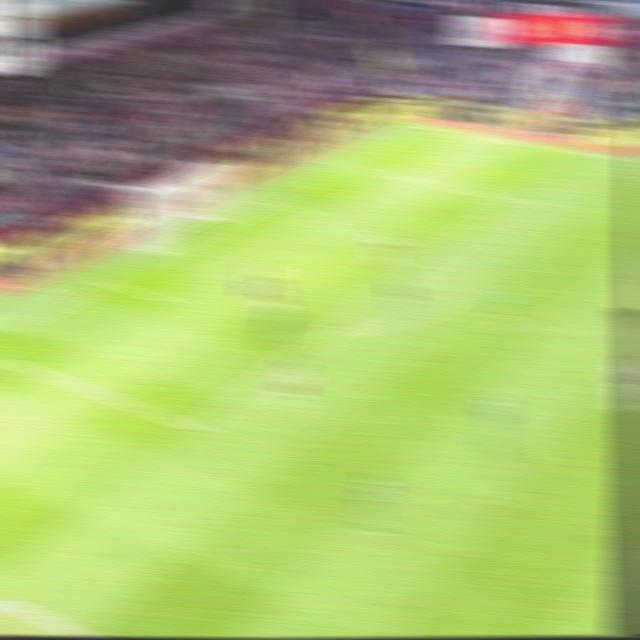bigarea_bottom_inner: (182, 420, 211, 439)
bigarea_top_inner: (501, 192, 526, 209)
bigarea_top_outter: (325, 158, 350, 169)
bottom_arc_area_intersection: (313, 322, 344, 343)
corner: (402, 122, 428, 130)
smallarea_bottom_inner: (156, 292, 181, 309)
smallarea_bottom_outter: (93, 275, 116, 288)
smallarea_top_inner: (310, 209, 333, 221)
smallarea_top_outter: (253, 194, 277, 206)
top_arc_area_intersection: (428, 243, 453, 262)
